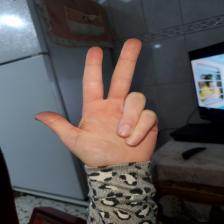three: (39, 40, 169, 178)
